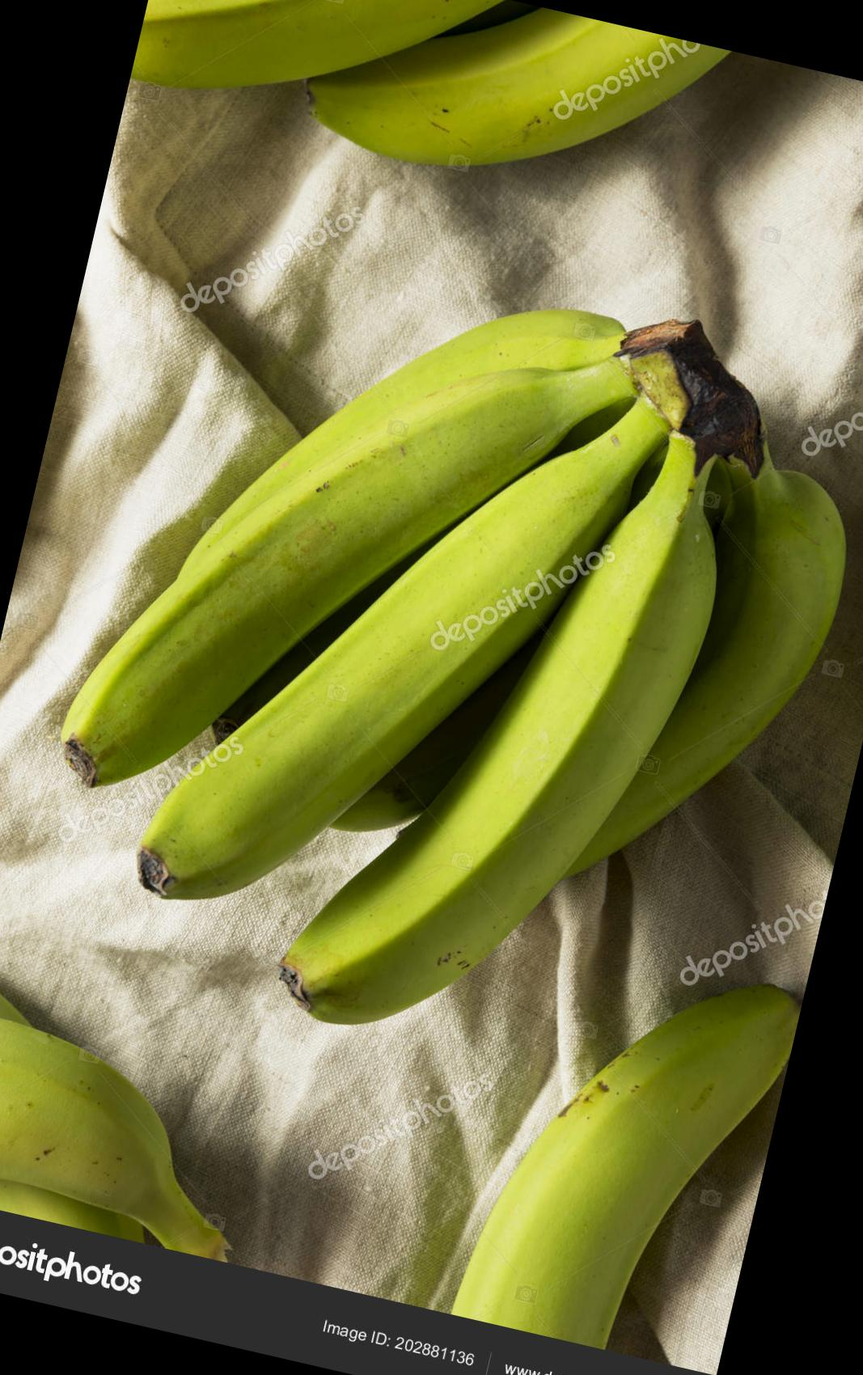Banana Unripe: (2, 169, 863, 1056)
